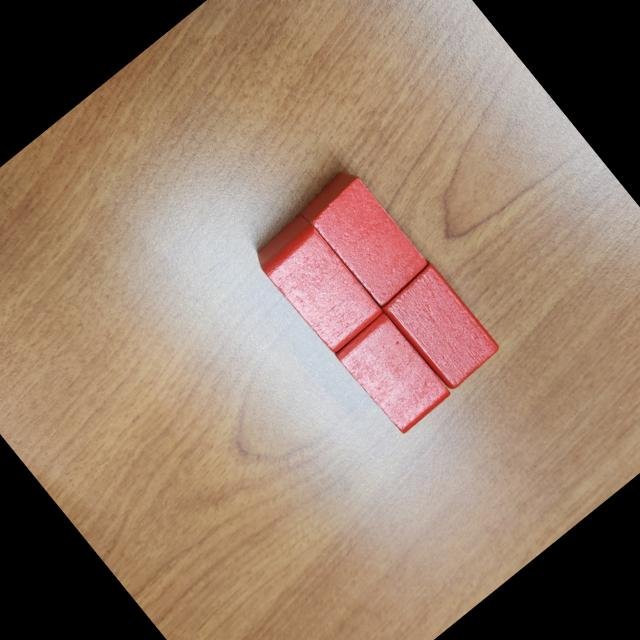red: (293, 164, 433, 312), (250, 212, 386, 358), (374, 256, 504, 394), (333, 309, 454, 437)
